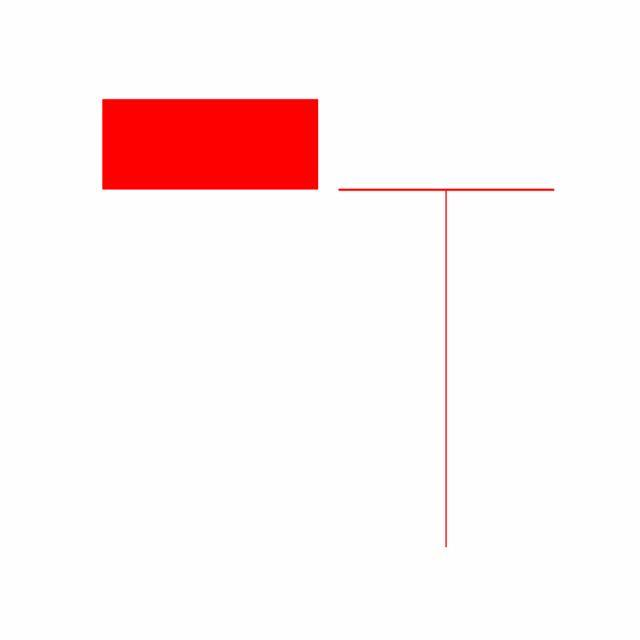Hanging Man: (328, 185, 566, 552)
